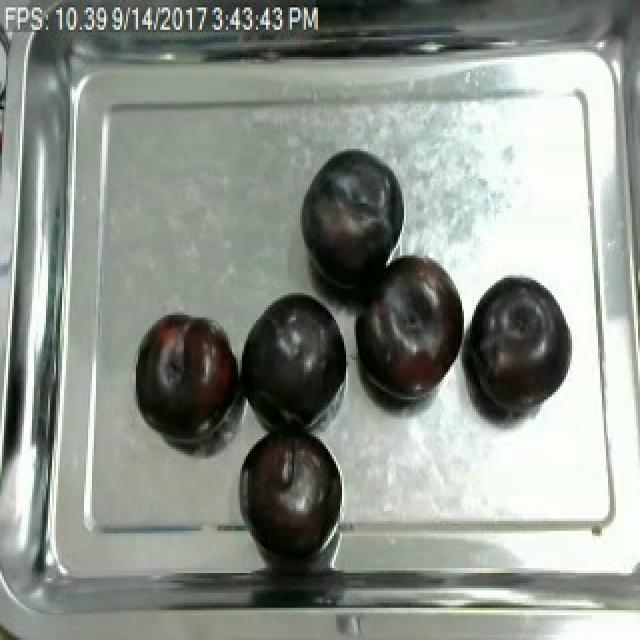Fruit: (354, 248, 468, 409), (236, 285, 350, 429), (294, 144, 404, 290), (466, 273, 574, 419), (136, 308, 242, 442), (240, 419, 342, 558)
